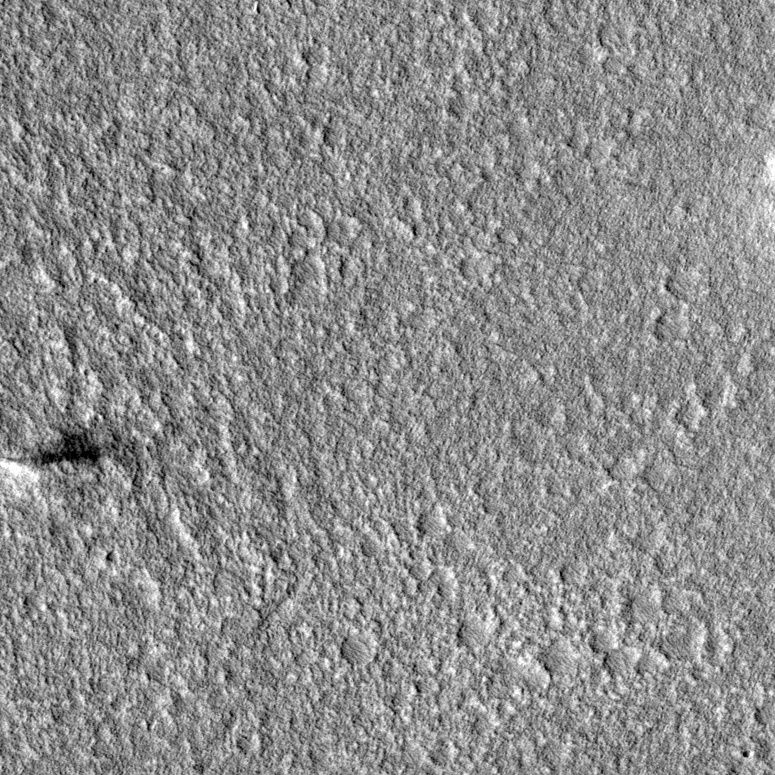dust_devil: (1, 427, 120, 482)
